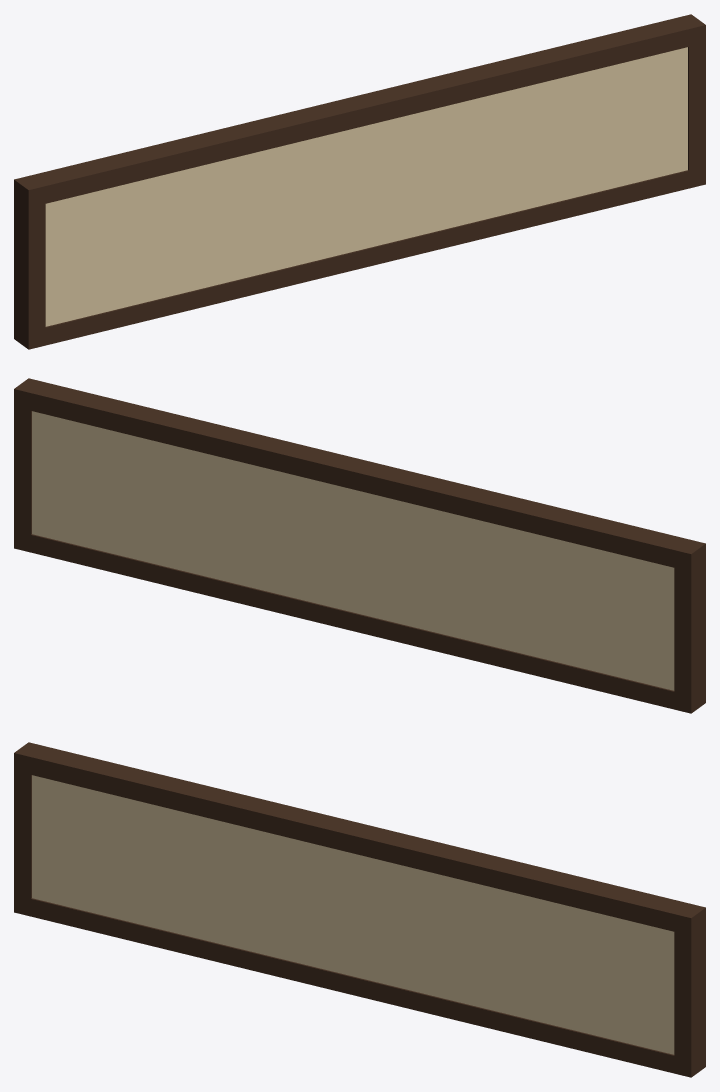
Rendered from prop_signboard_shop.glb.
3 views of the same model, one above another, from view 1: azimuth 30°, elevation 25°; view 2: azimuth 150°, elevation 25°; view 3: azimuth 330°, elevation 25° (orthographic).
Parts seen in each view (by area): view 1: PROP_Signboard_Shop; view 2: PROP_Signboard_Shop; view 3: PROP_Signboard_Shop.
Boxes of the visible parts, x1,y1,x2,y2 form: PROP_Signboard_Shop: (14, 14, 705, 349); PROP_Signboard_Shop: (14, 378, 705, 713); PROP_Signboard_Shop: (14, 742, 705, 1077).
Bounding box in the file's own units: 4 × 0.9 × 0.15.
